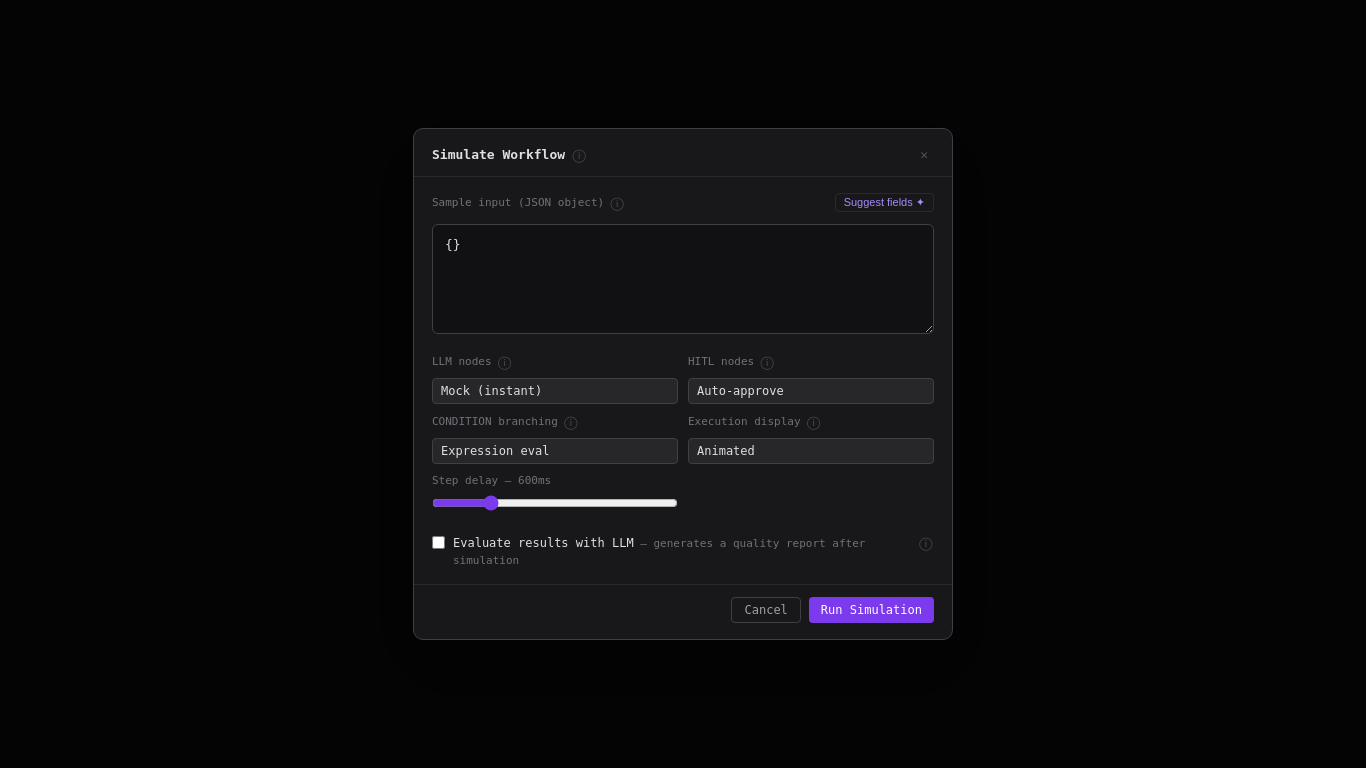
Scenario: SimulateModal — submission › shows server error message from response detail
What coordinates should you click on to do the following:
click the button "Run Simulation"
I would click on:
 (871, 610)
Its box is [809,597,934,623].
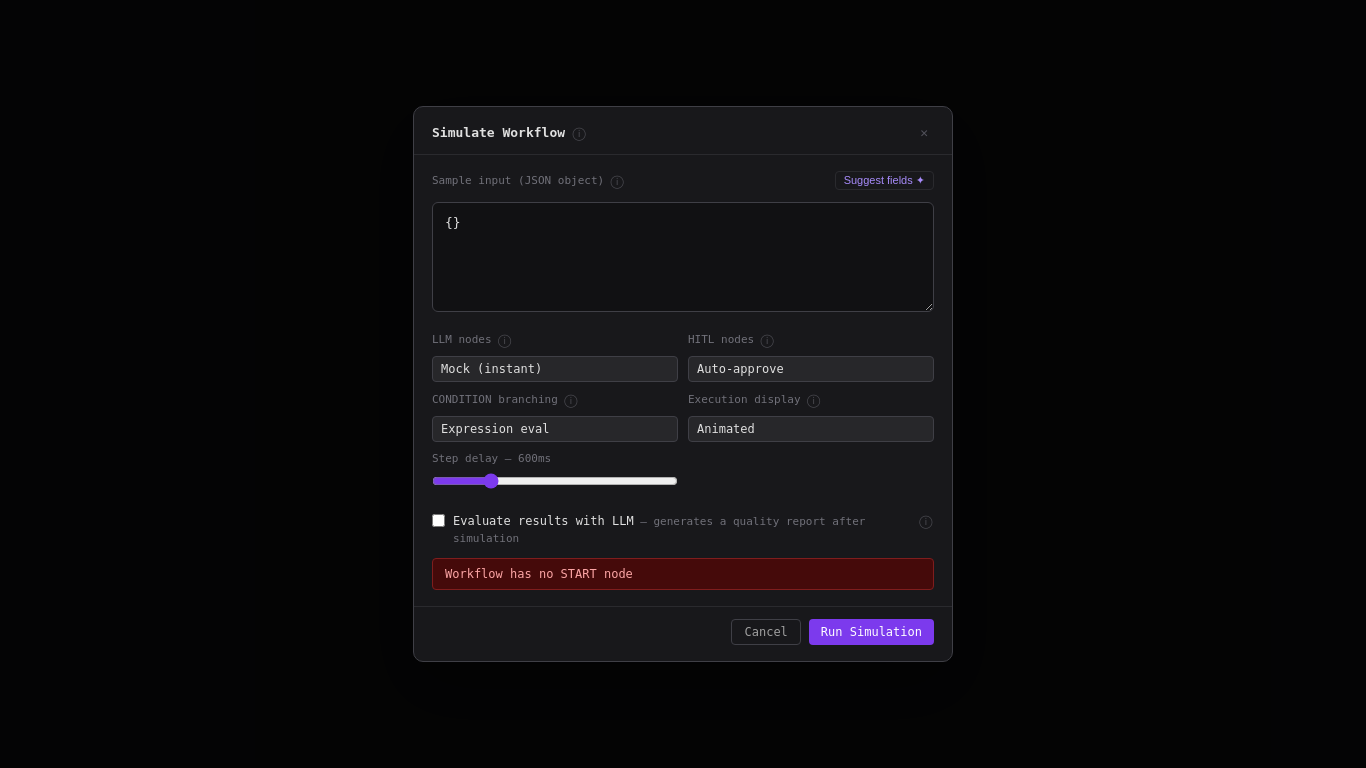
Check: the text "Workflow has no START node" is shown, box [432,558,934,590]
